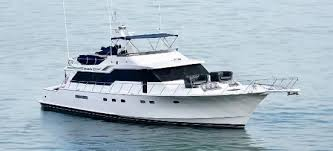boat: (39, 1, 300, 130)
